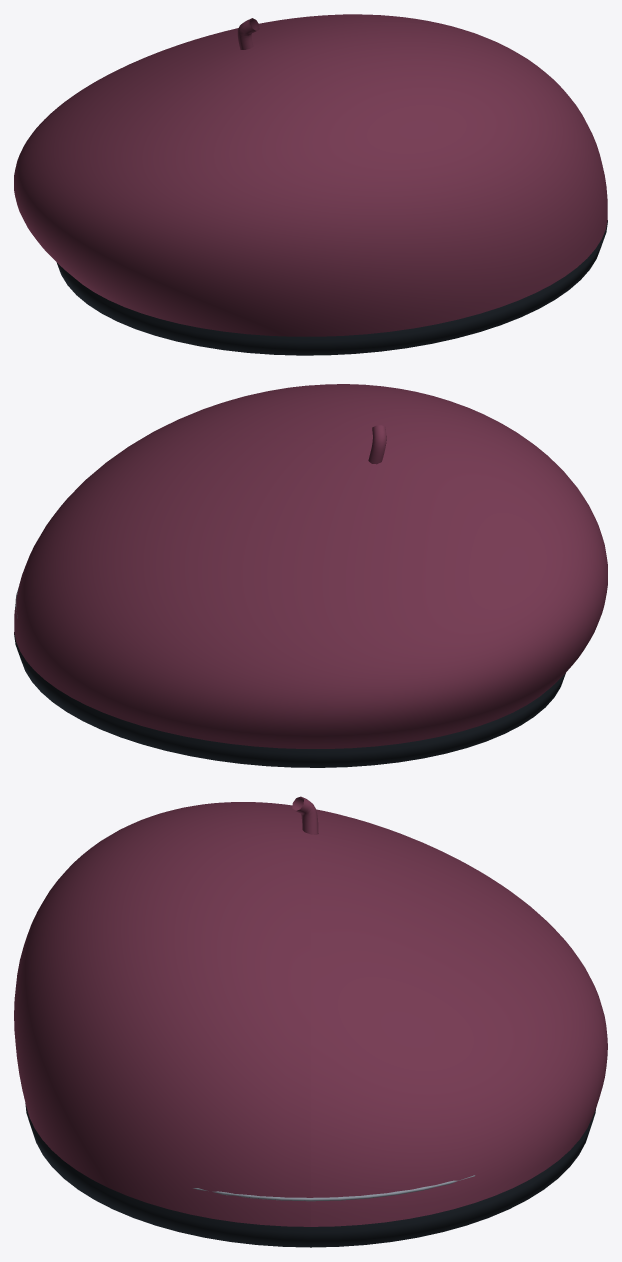
File: atelier_beret.glb
3 views of the same model, one above another, from view 1: azimuth 30°, elevation 25°; view 2: azimuth 150°, elevation 25°; view 3: azimuth 270°, elevation 25° (orthographic). The views are drawn at different scales.
Visible parts, largest first — view 1: beret:BeretV5_WoolFelt, beret:Atelier_SoftRubber; view 2: beret:BeretV5_WoolFelt, beret:Atelier_SoftRubber; view 3: beret:BeretV5_WoolFelt, beret:Atelier_SoftRubber, beret:Atelier_TonalStitch.
Part boxes in pixels (x1,y1,x2,y2): beret:BeretV5_WoolFelt: (14, 14, 607, 336); beret:Atelier_SoftRubber: (56, 220, 607, 355); beret:BeretV5_WoolFelt: (14, 384, 607, 748); beret:Atelier_SoftRubber: (14, 632, 565, 767); beret:BeretV5_WoolFelt: (14, 796, 607, 1226); beret:Atelier_SoftRubber: (25, 1103, 595, 1247); beret:Atelier_TonalStitch: (193, 1175, 475, 1201).
Bounding box in the file's own units: 0.2105 × 0.0948 × 0.1852.
